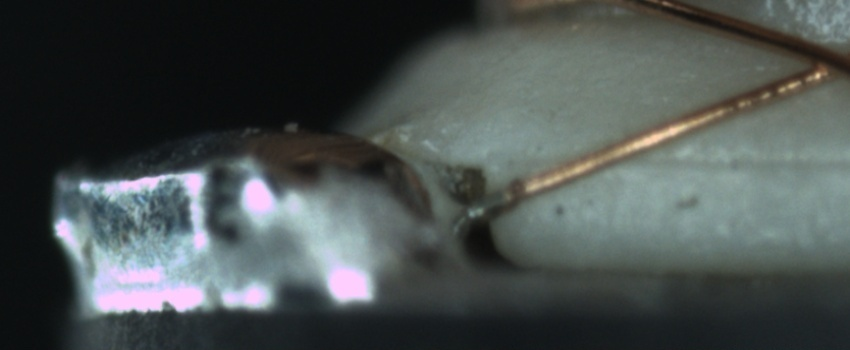CL: (779, 32, 848, 91)
DL: (572, 130, 846, 196)
TS: (465, 188, 507, 220)
